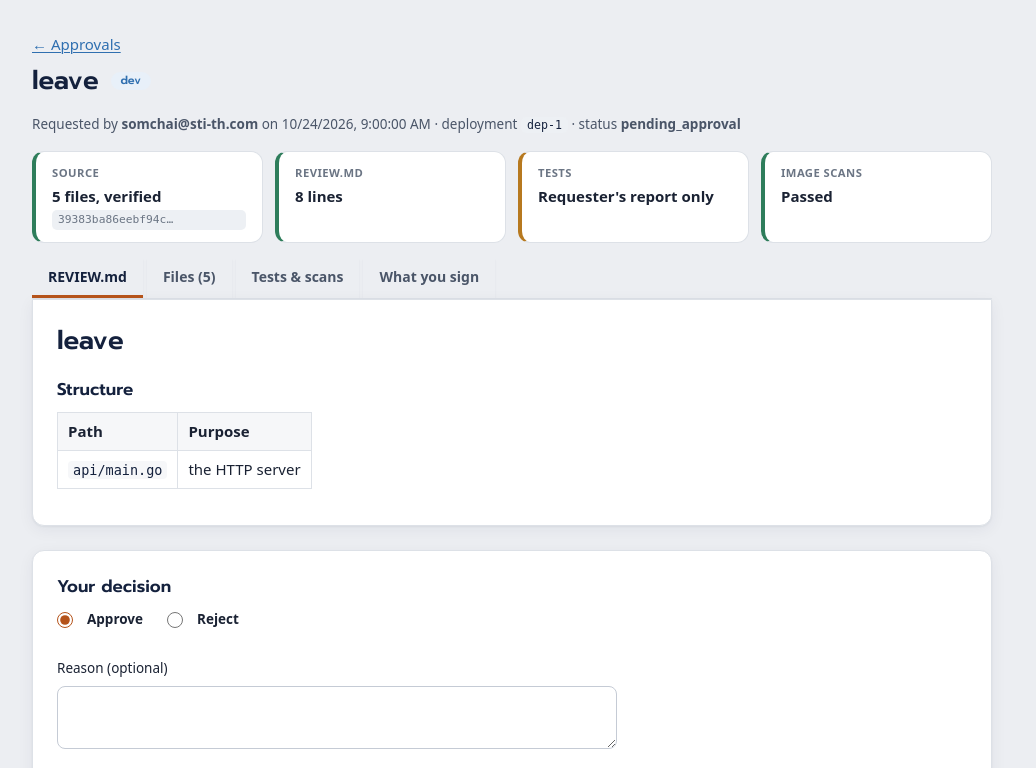
Scenario: Approvals › shows REVIEW.md rendered, and every file of the verified source
Check: the heading "Structure" is shown, box [57,376,133,402]
Check: the cell "the HTTP server" is shown, box [178,450,311,488]
Click the tab "Files (5)". click: [189, 279]
box: [147,259,232,298]
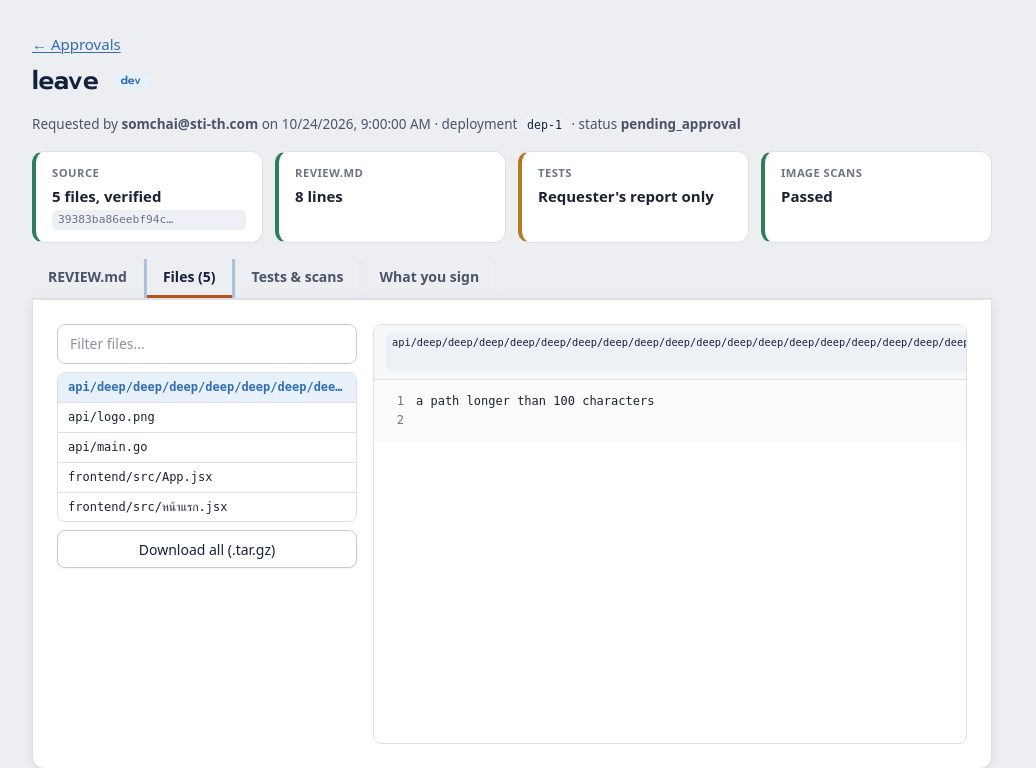
Click the button "frontend/src/หน้าแรก.jsx". click: [207, 507]
box: [58,493,356,521]
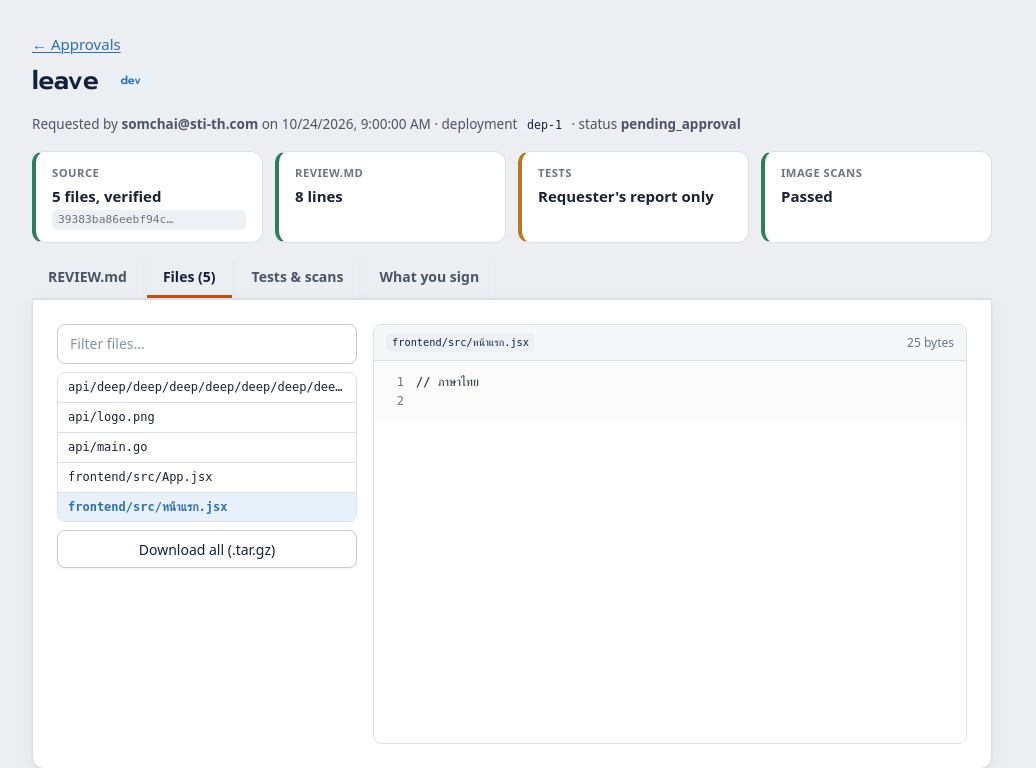
Check: the element named "Contents of frontend/src/หน้าแรก.jsx" shows "// ภาษาไทย", box [416,375,479,389]
Click the button "api/logo.png". click: [111, 417]
box: [58,403,356,433]
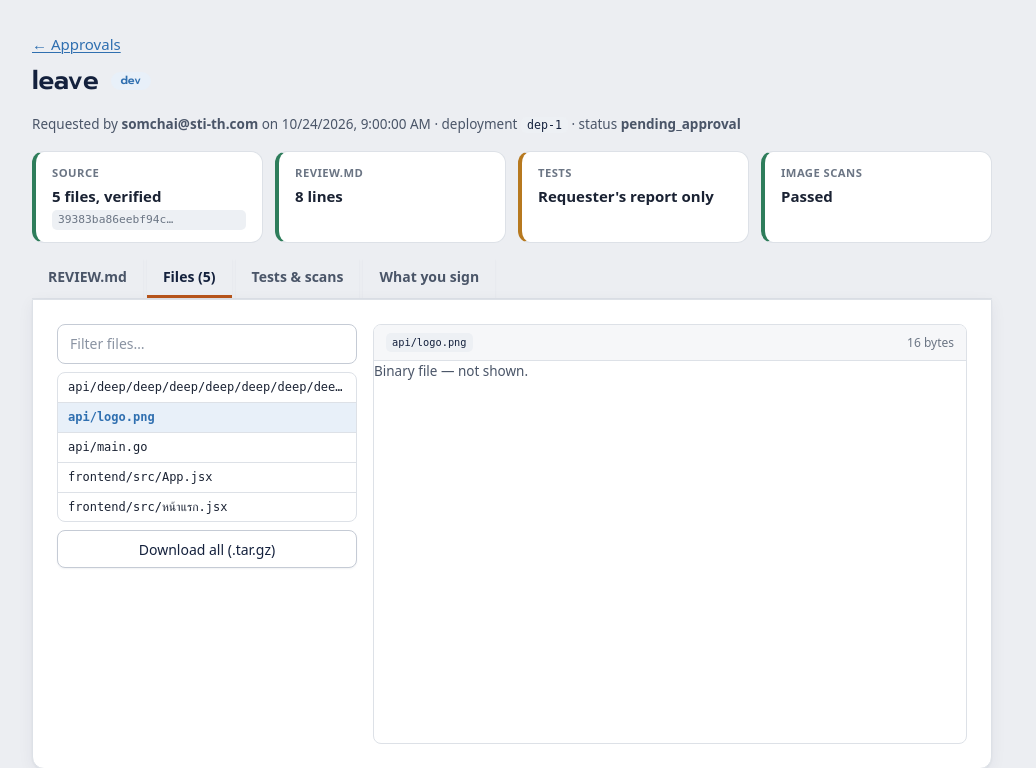
Check: the text "Binary file — not shown." is shown, box [374,362,528,380]
